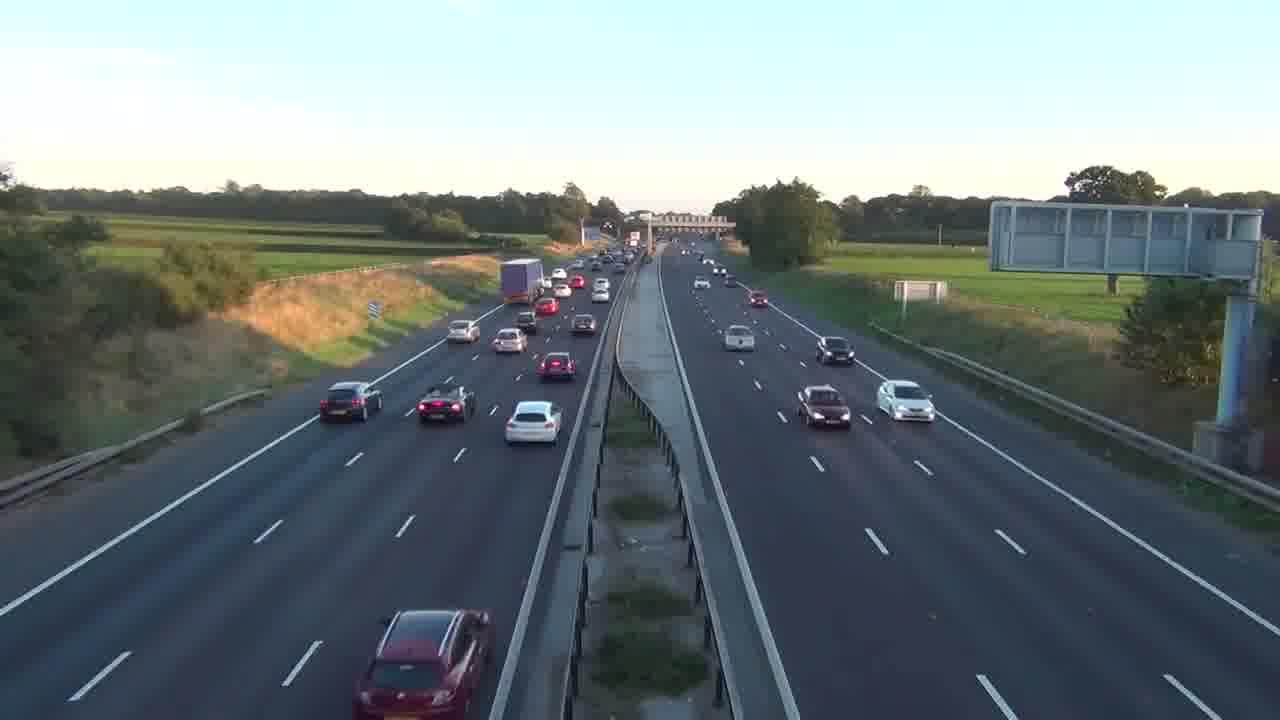car: (351, 607, 493, 719), (504, 398, 564, 445), (319, 380, 384, 423), (796, 384, 852, 430), (877, 379, 936, 422), (415, 387, 469, 424), (536, 351, 578, 382), (815, 336, 855, 367), (447, 319, 480, 344), (572, 313, 597, 336)
truck: (498, 257, 543, 305)
